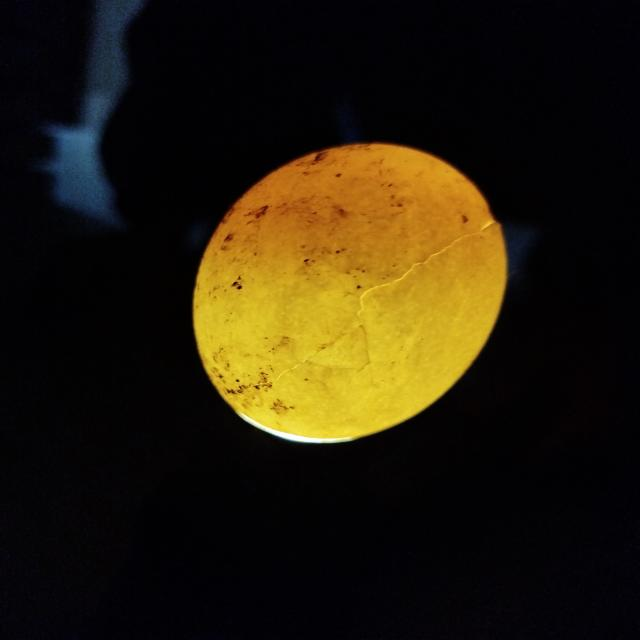Rachadura: (238, 220, 499, 395)
